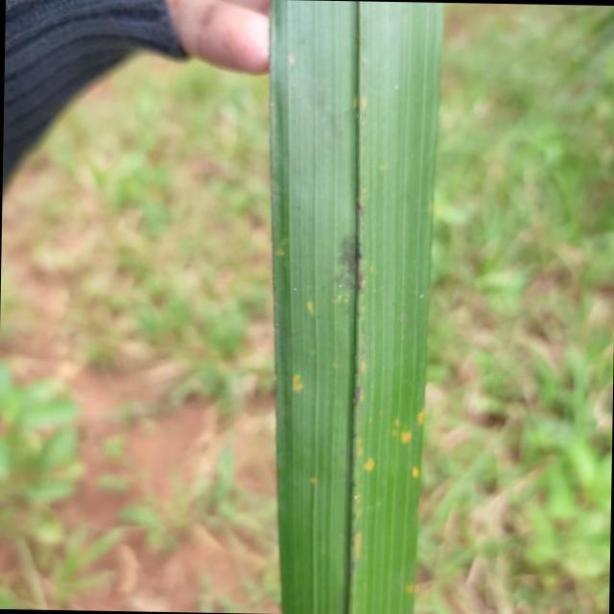Kalium: (267, 0, 456, 614)
